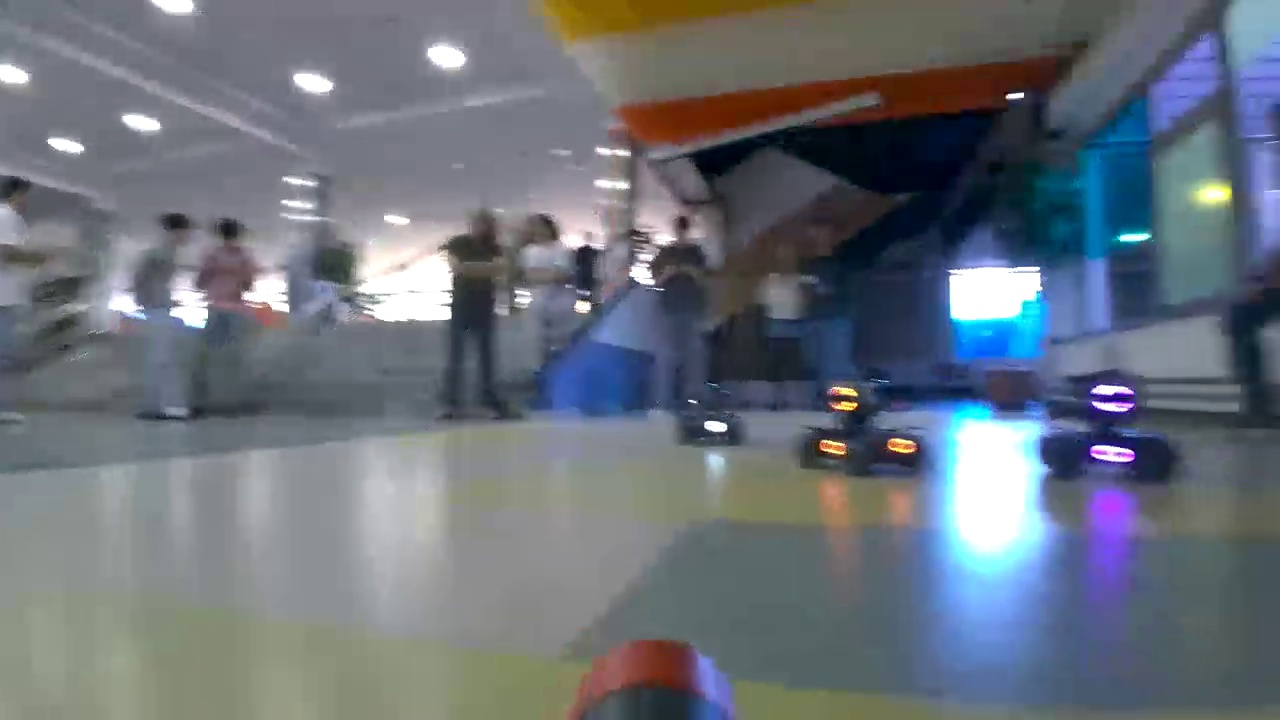robot: (806, 374, 925, 472), (1038, 376, 1150, 474), (680, 378, 742, 444)
